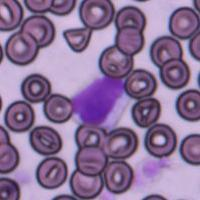M: (70, 74, 130, 128)
